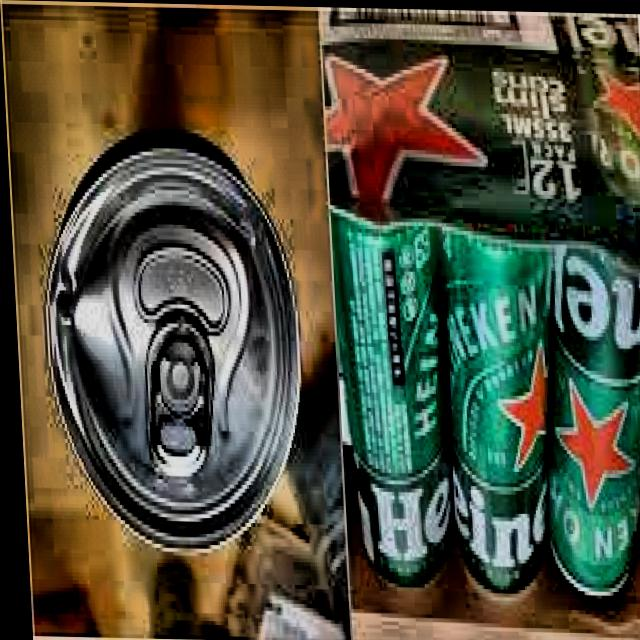can: (29, 110, 308, 573), (318, 200, 456, 598), (434, 206, 565, 607), (525, 198, 640, 610)
